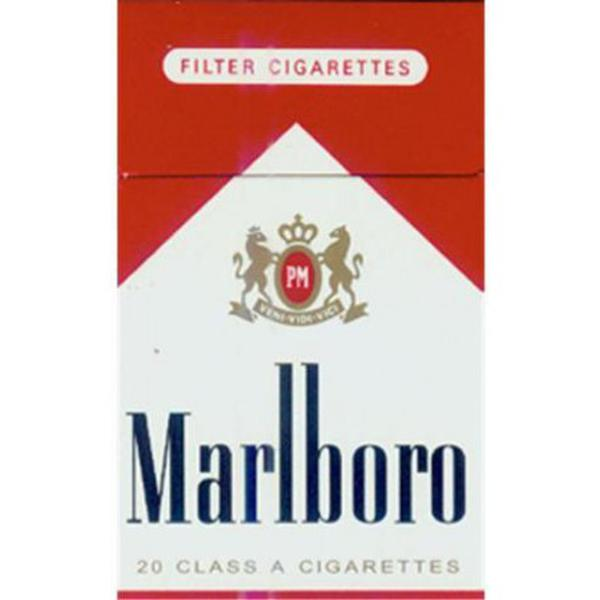marlboro_red: (120, 1, 480, 600)
